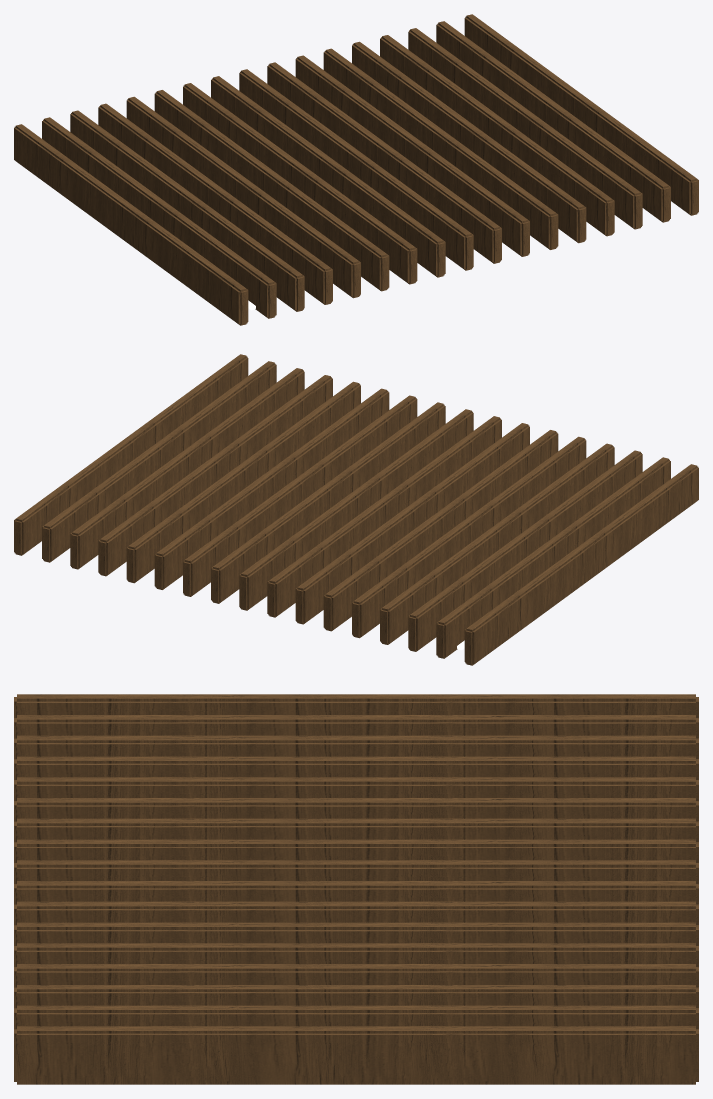
File: ceiling_v29_C.glb
3 renders of one model, top to bottom at view 1: azimuth 30°, elevation 25°; view 2: azimuth 150°, elevation 25°; view 3: azimuth 270°, elevation 25°, orthographic. The views are drawn at different scales.
Parts seen in each view (by area): view 1: ceiling_v29_C_CC0_Oak_veneer; view 2: ceiling_v29_C_CC0_Oak_veneer; view 3: ceiling_v29_C_CC0_Oak_veneer.
Boxes of the visible parts, x1,y1,x2,y2 form: ceiling_v29_C_CC0_Oak_veneer: [14, 14, 698, 325]; ceiling_v29_C_CC0_Oak_veneer: [14, 354, 698, 665]; ceiling_v29_C_CC0_Oak_veneer: [14, 694, 698, 1084].
Size of the model in its own units: 3.1 by 0.23 by 2.65.
Materials: 3 (1 with a texture image).
